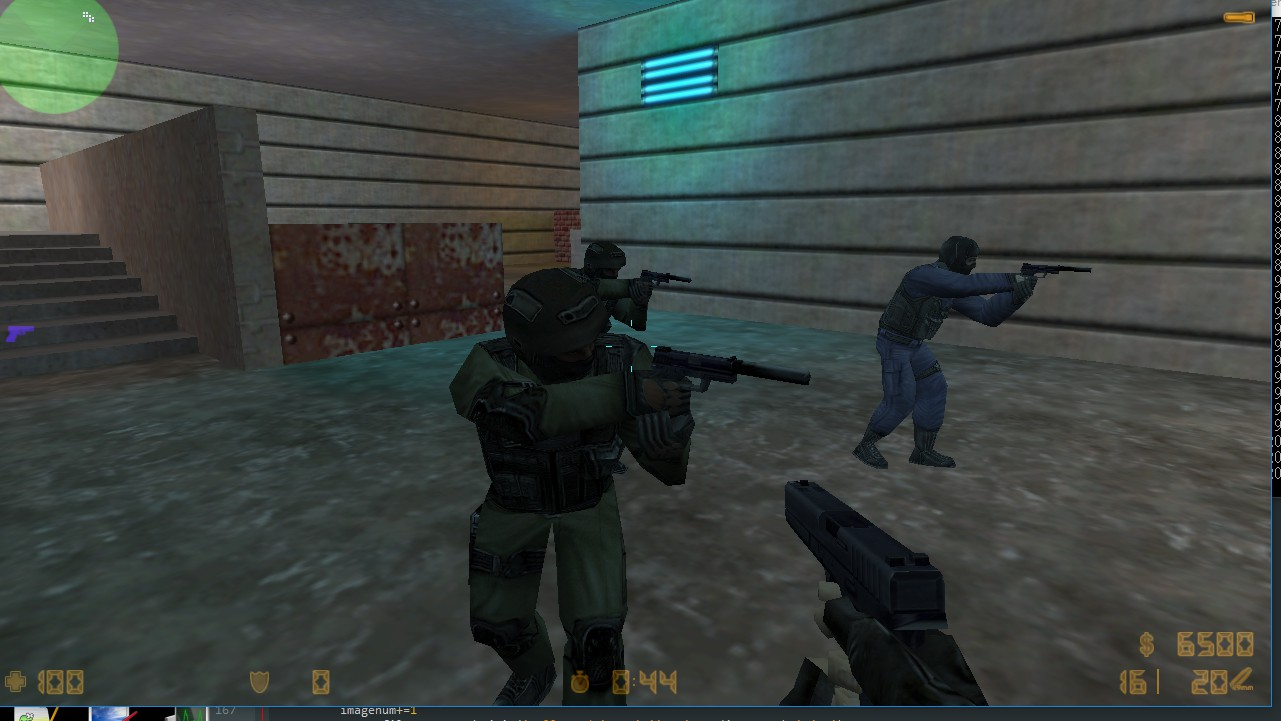person: (446, 268, 677, 703), (856, 222, 979, 481)
